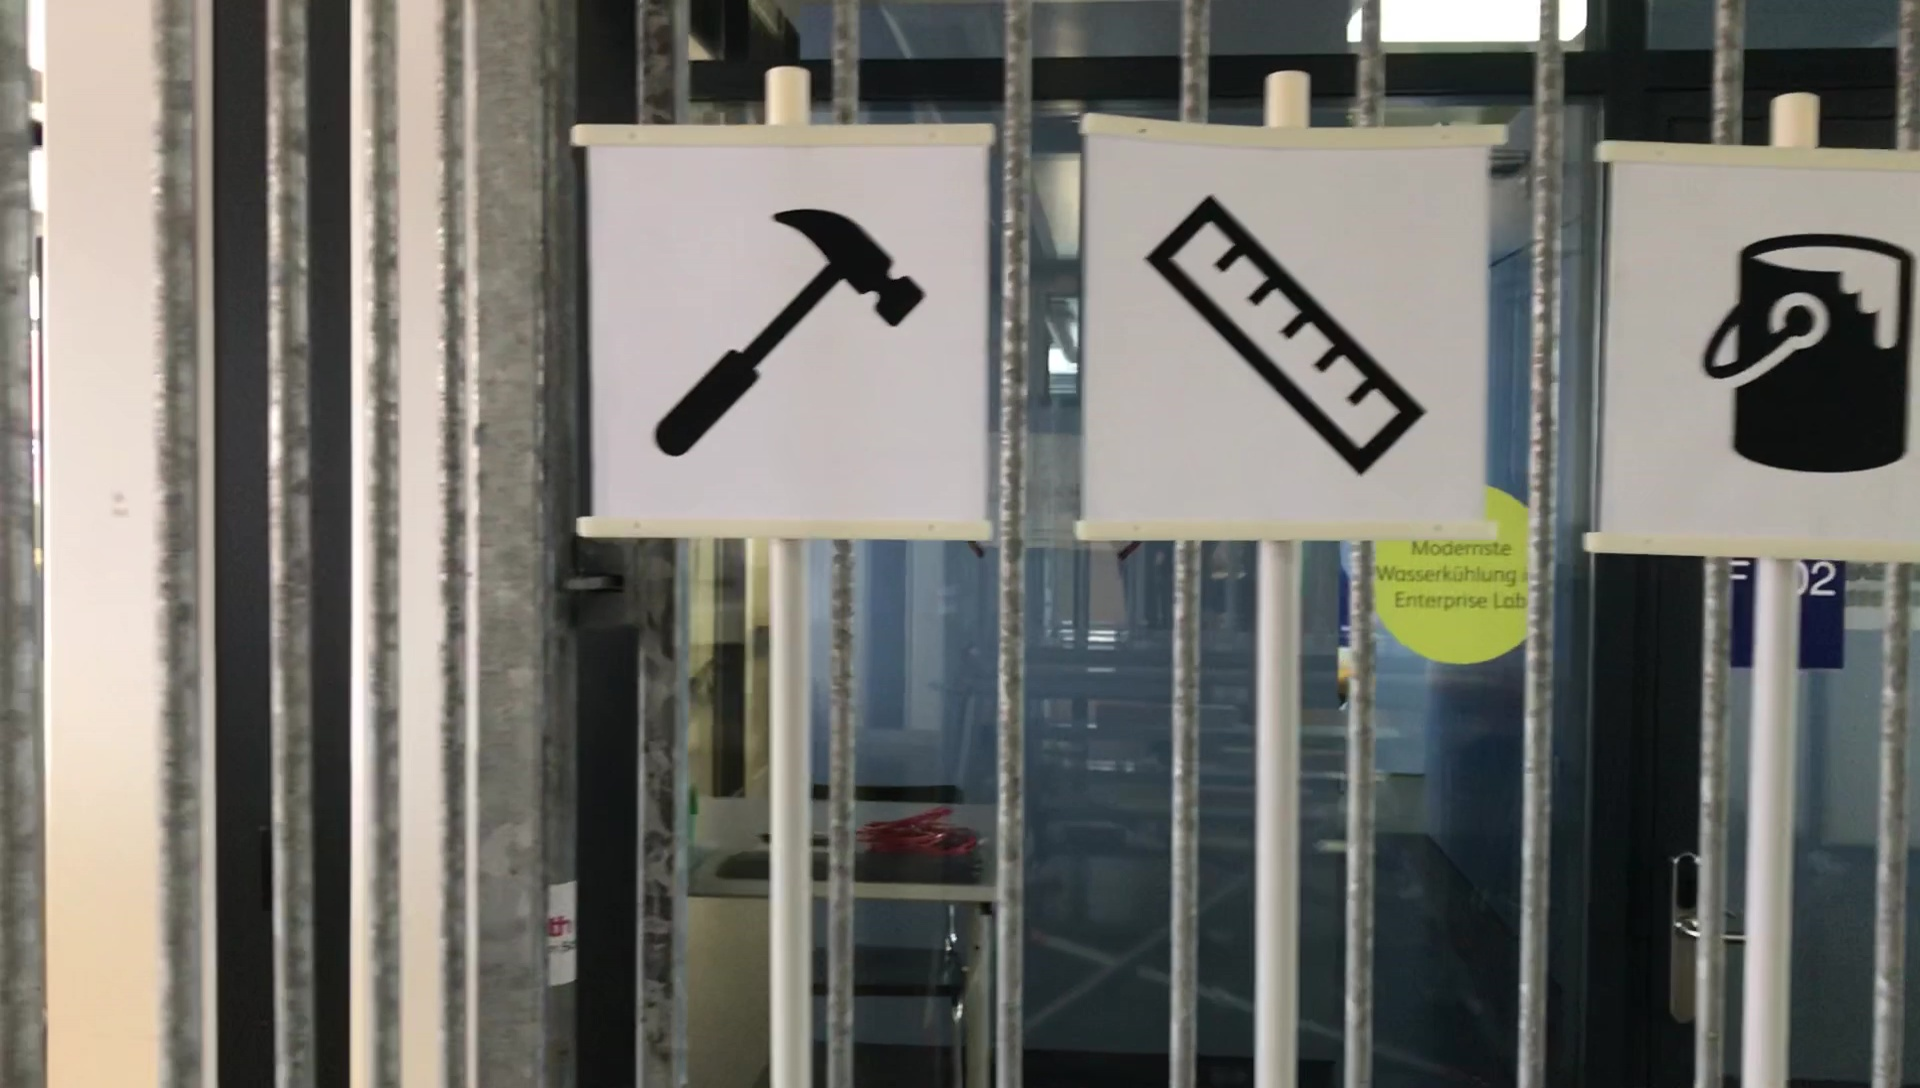bucket: (1708, 226, 1913, 480)
hammer: (650, 199, 924, 454)
ruler: (1139, 183, 1439, 481)
